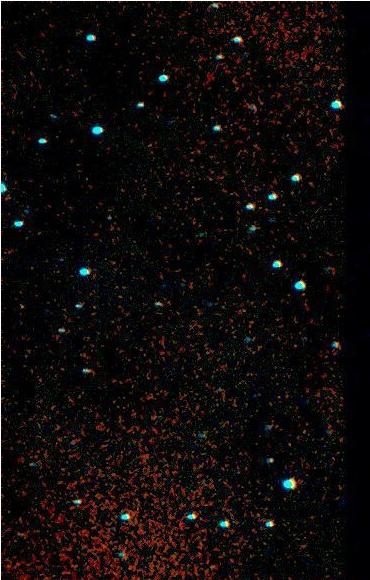star: (5, 295, 35, 325)
